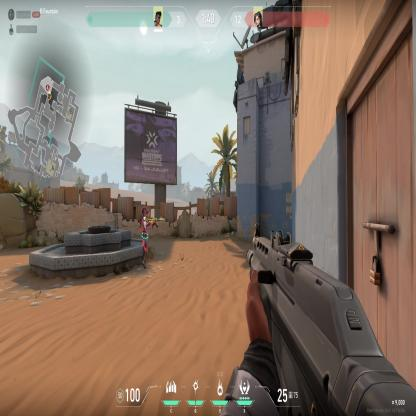enemy: (138, 204, 159, 270)
